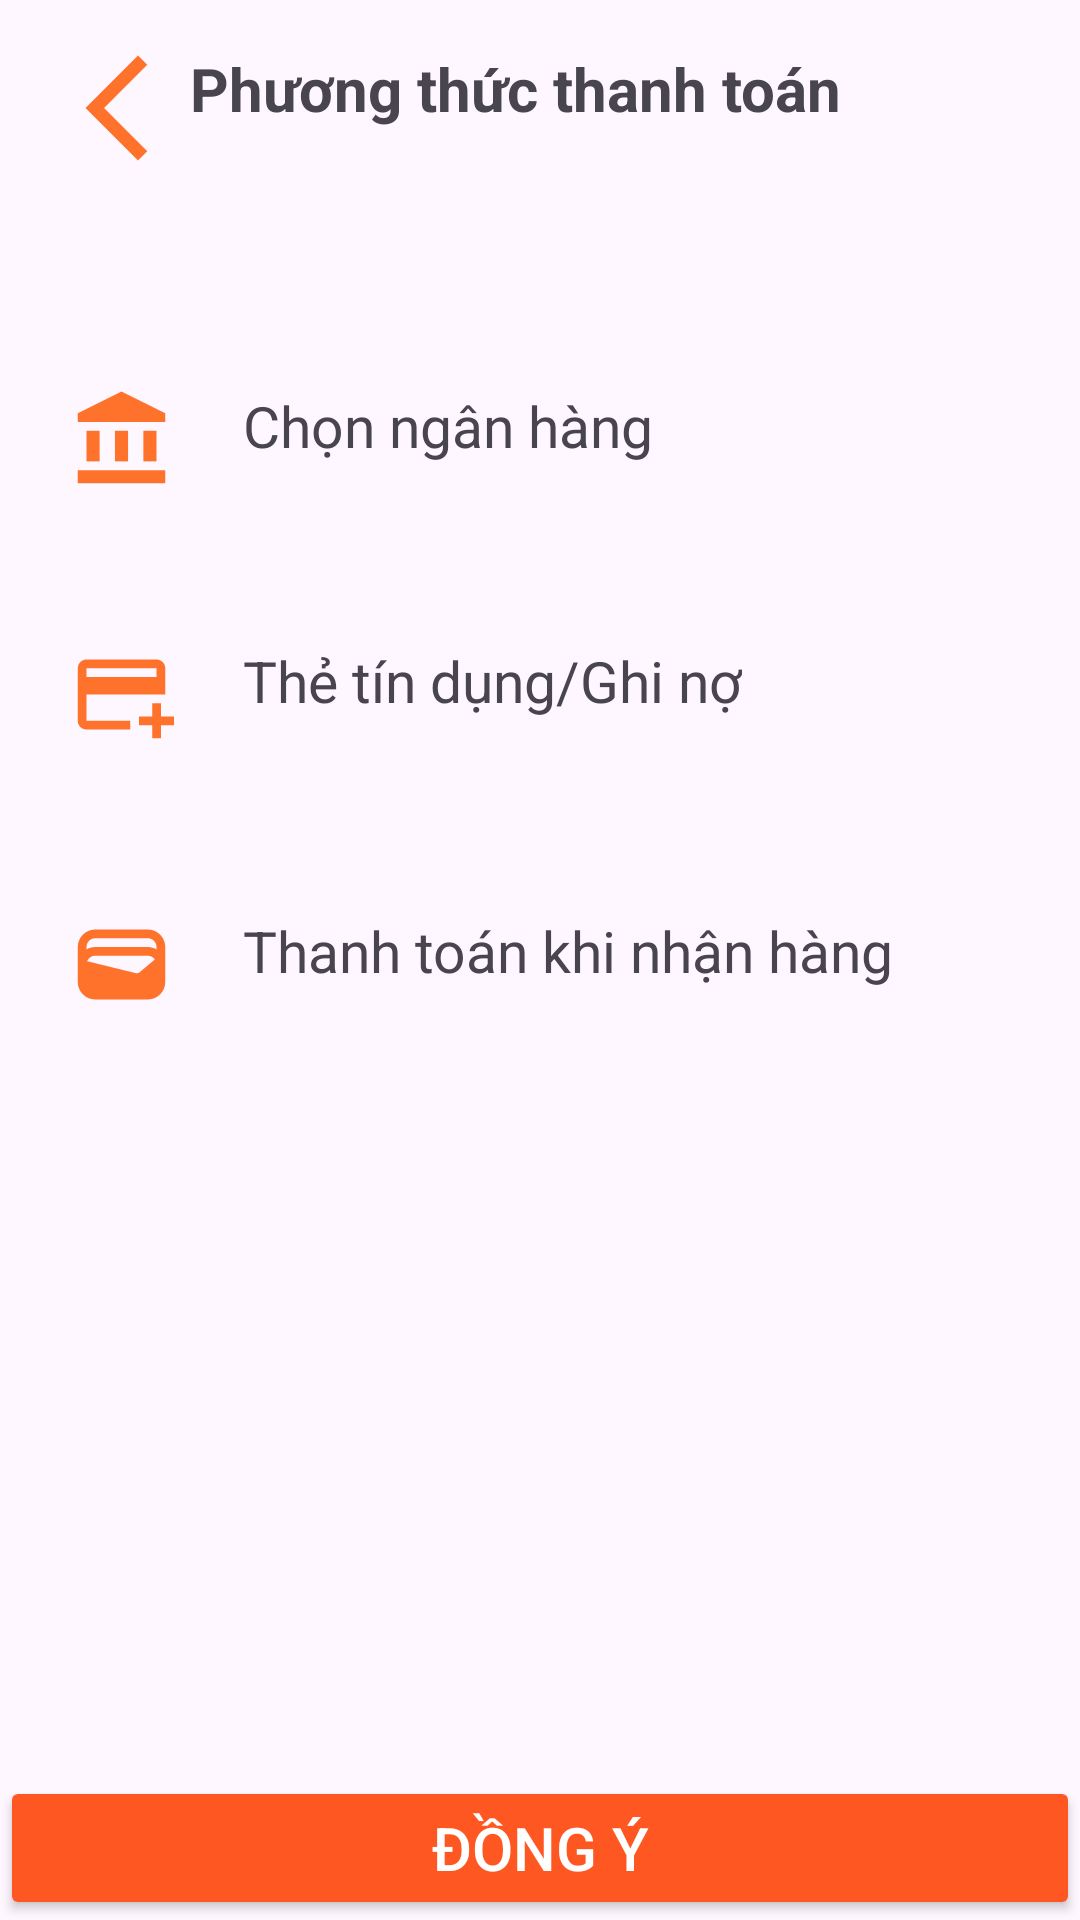

Named icons in this screenshot (1080px x 1920px) and their centers, point (x, y):
back: point (116, 108)
bank: point (121, 437)
card bank: point (125, 699)
wallet: point (121, 964)
